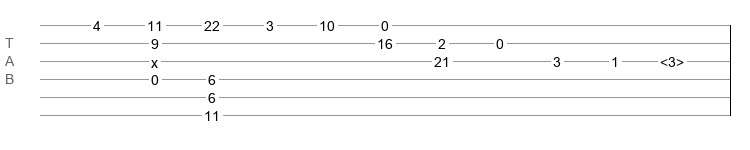0: (151, 72, 159, 82), (381, 18, 389, 28), (496, 36, 504, 46)
1: (611, 54, 619, 64)
10: (319, 18, 335, 28)
11: (147, 18, 163, 28), (204, 108, 220, 118)
16: (377, 36, 393, 46)
2: (438, 36, 446, 46)
21: (434, 54, 450, 64)
22: (204, 18, 220, 28)
3: (266, 18, 274, 28), (553, 54, 561, 64)
4: (93, 18, 101, 28)
6: (208, 72, 216, 82), (208, 90, 216, 100)
9: (151, 36, 159, 46)
harmonic: (660, 54, 684, 64)
x: (151, 55, 158, 63)
